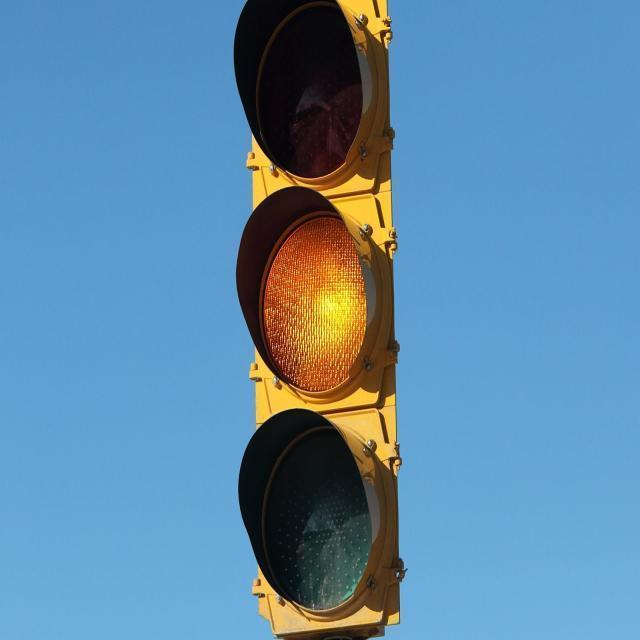yellow_light: (233, 1, 401, 624)
